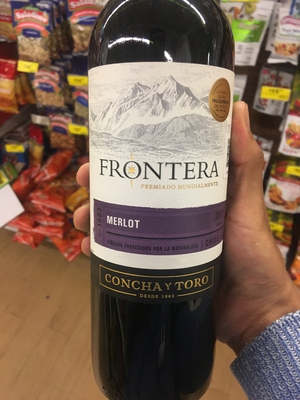frontera merlot: (81, 8, 235, 363)
